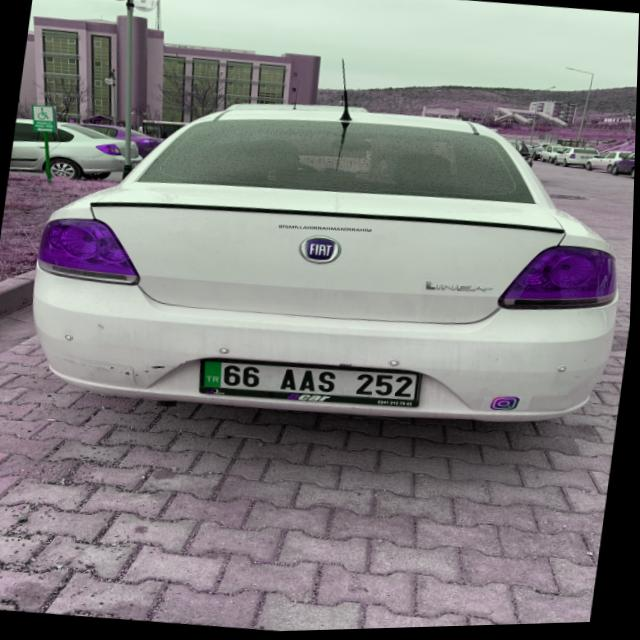license_plate: (200, 355, 421, 409)
